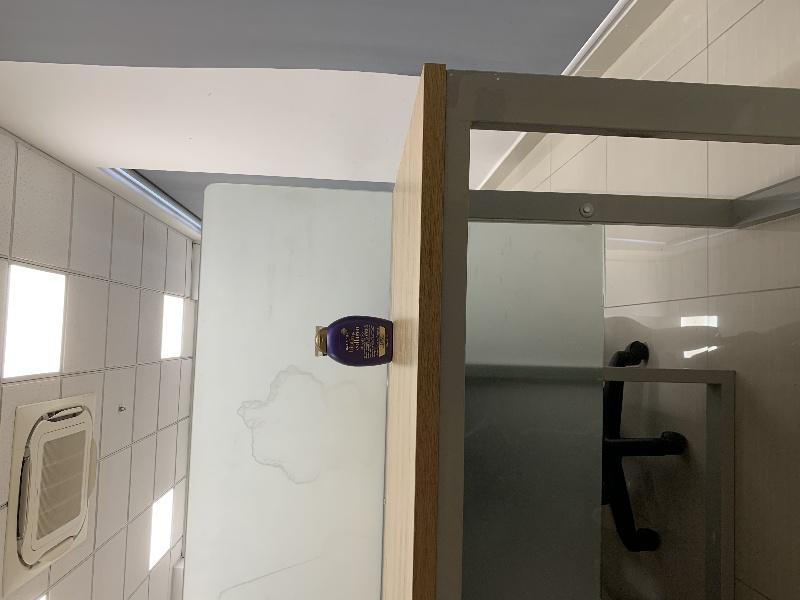BiotinCollagen_Shampoo: (315, 315, 393, 367)
